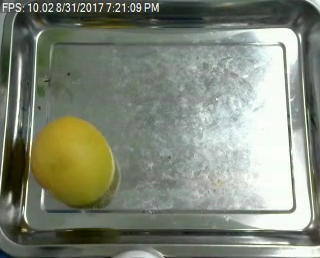Mango: (29, 114, 116, 206)
